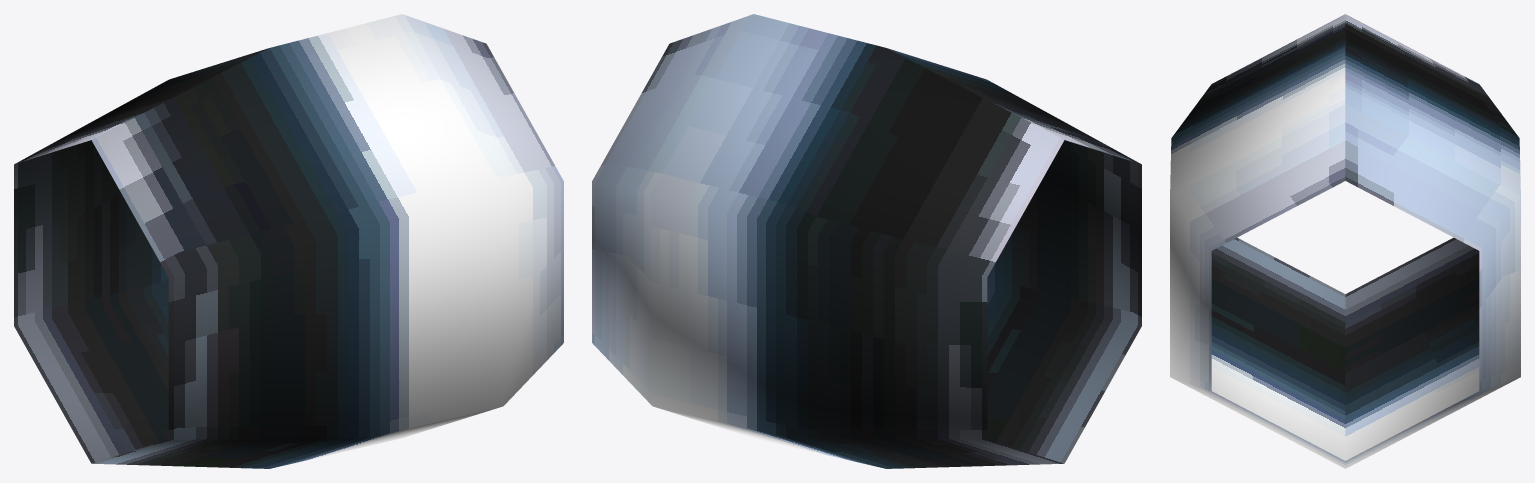
Rendered from ItemBoxShell.obj.
3 views of the same model, side by side, from view 1: azimuth 30°, elevation 25°; view 2: azimuth 150°, elevation 25°; view 3: azimuth 270°, elevation 25° (orthographic). The views are drawn at different scales.
Bounding box in the file's own units: 10.58 × 10.85 × 9.4.
1 material, 1 textured.
